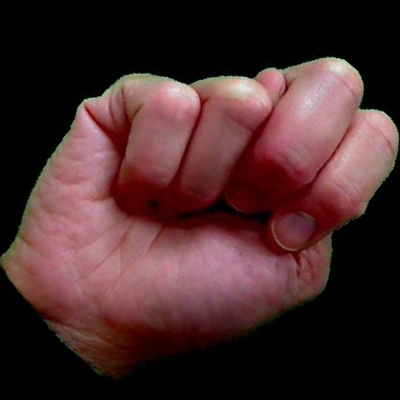n: (1, 20, 400, 400)
